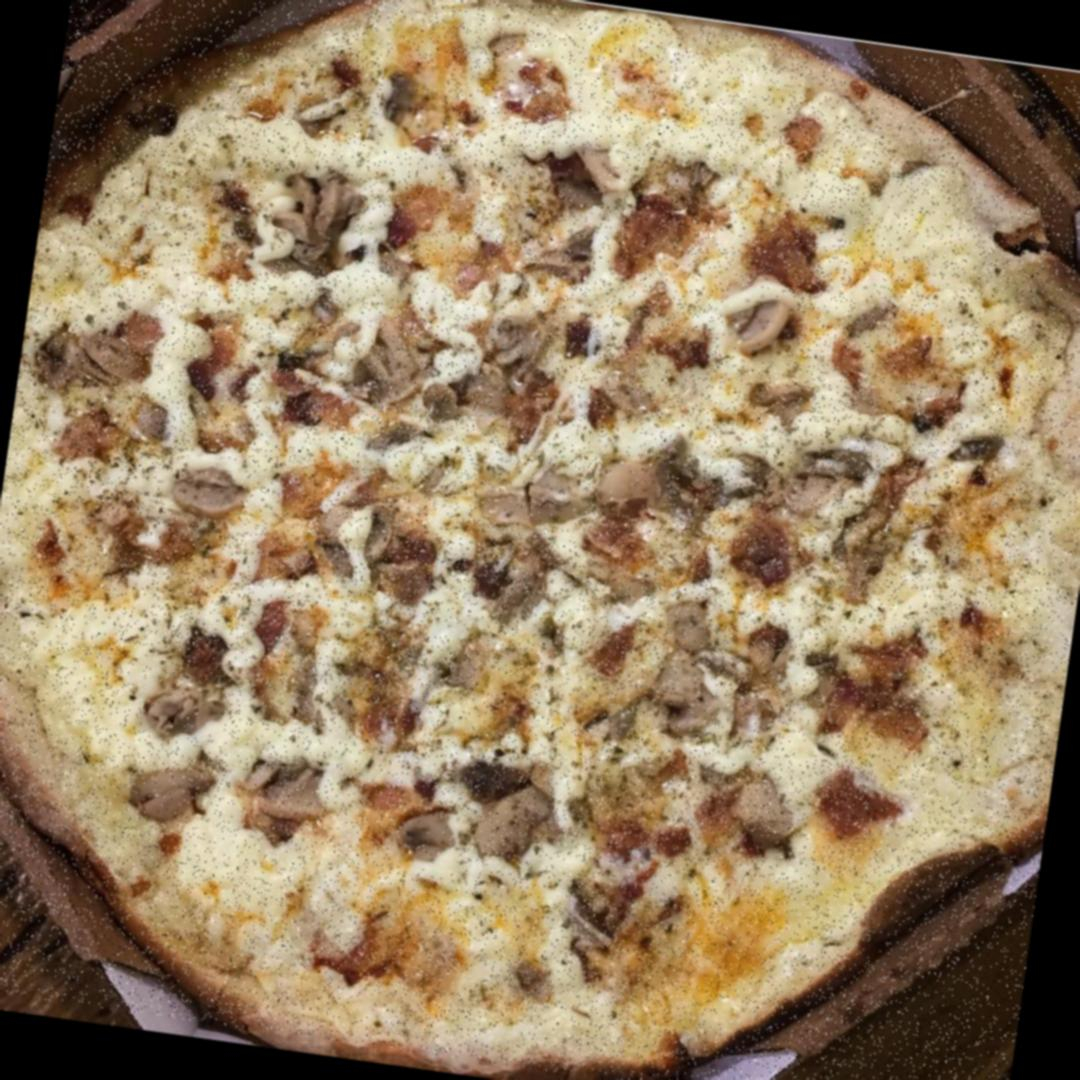Mushroom: (253, 171, 360, 270), (651, 609, 727, 740), (33, 326, 154, 402), (472, 458, 590, 532), (474, 313, 550, 419), (342, 324, 427, 410), (471, 785, 551, 876), (244, 763, 337, 841), (312, 498, 406, 574), (374, 62, 445, 154), (140, 676, 230, 742), (720, 284, 794, 364), (163, 453, 246, 522), (549, 145, 627, 206), (595, 457, 668, 519), (728, 782, 803, 842), (126, 772, 204, 828), (399, 809, 466, 873), (784, 463, 854, 521)
Pizza: (0, 0, 1080, 1080)
